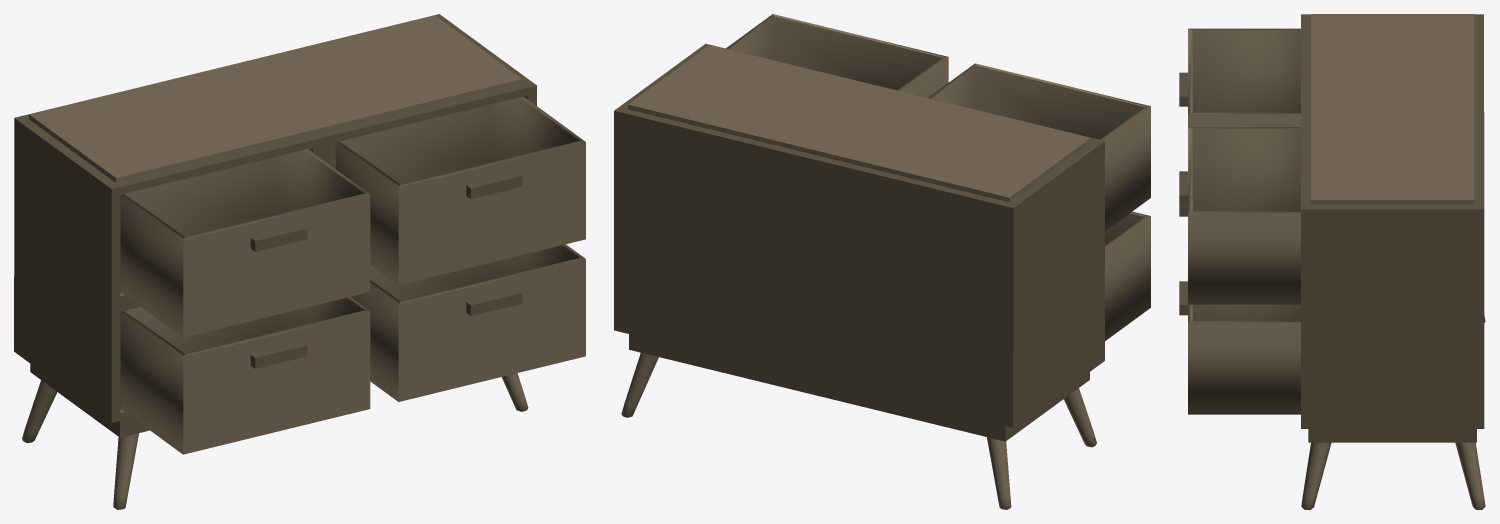
File: Drawer_full.glb
3 views of the same model, side by side, from view 1: azimuth 30°, elevation 25°; view 2: azimuth 150°, elevation 25°; view 3: azimuth 270°, elevation 25° (orthographic). The views are drawn at different scales.
Parts seen in each view (by area): view 1: Drawer_body, Drawer_door_1-rigid.002, Drawer_door_1-rigid, Drawer_door_1-rigid.001, Drawer_door_1-rigid.003; view 2: Drawer_body, Drawer_door_1-rigid.002, Drawer_door_1-rigid, Drawer_door_1-rigid.001; view 3: Drawer_body, Drawer_door_1-rigid, Drawer_door_1-rigid.003, Drawer_door_1-rigid.002.
Boxes of the visible parts, x1,y1,x2,y2 form: Drawer_body: (14,14,536,509); Drawer_door_1-rigid.002: (120,149,370,337); Drawer_door_1-rigid: (336,96,585,284); Drawer_door_1-rigid.001: (120,297,370,454); Drawer_door_1-rigid.003: (351,244,585,401); Drawer_body: (614,43,1104,509); Drawer_door_1-rigid.002: (928,63,1150,231); Drawer_door_1-rigid: (726,14,948,97); Drawer_door_1-rigid.001: (1105,211,1150,340); Drawer_body: (1301,14,1485,509); Drawer_door_1-rigid: (1179,127,1300,304); Drawer_door_1-rigid.003: (1179,281,1300,414); Drawer_door_1-rigid.002: (1179,28,1300,127).
Size of what is drawn, in the model's own units: 2.79 by 2.07 by 1.85.
